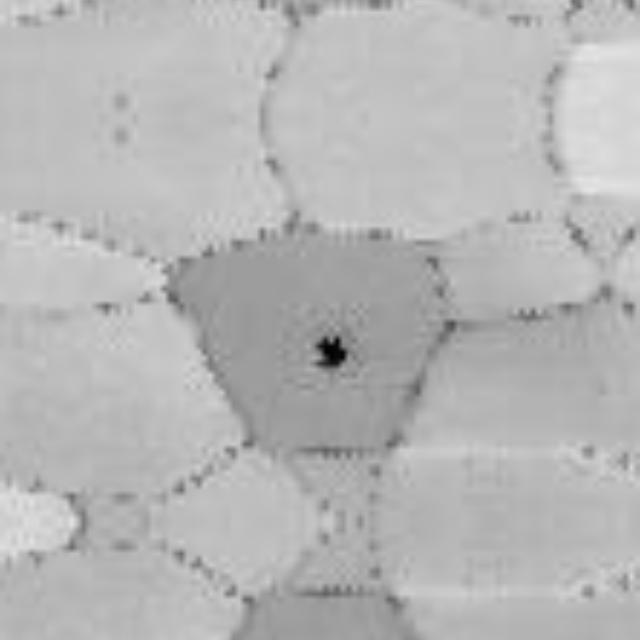good_void: (299, 320, 360, 381)
